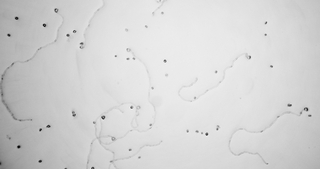germinated: (299, 105, 310, 114), (125, 46, 135, 55), (134, 104, 142, 115), (243, 51, 252, 60), (106, 133, 115, 142), (53, 7, 61, 17)
nongerminated: (12, 14, 20, 22), (286, 101, 293, 110), (123, 26, 130, 34), (99, 113, 106, 121), (44, 123, 52, 130), (212, 68, 219, 75), (41, 22, 48, 29), (14, 143, 21, 150), (37, 157, 43, 165), (70, 107, 76, 115), (268, 63, 275, 69), (203, 130, 209, 137), (184, 128, 190, 135), (149, 85, 156, 91), (159, 9, 165, 16), (71, 27, 77, 34), (65, 31, 71, 38), (6, 32, 12, 39), (37, 126, 43, 133), (263, 19, 269, 25), (262, 31, 268, 37), (194, 128, 200, 134), (162, 58, 168, 64), (113, 53, 119, 59), (124, 54, 130, 60), (127, 146, 132, 153), (214, 125, 219, 131), (143, 23, 148, 29), (78, 40, 84, 45), (70, 113, 77, 117), (192, 95, 197, 100), (199, 130, 204, 135)
